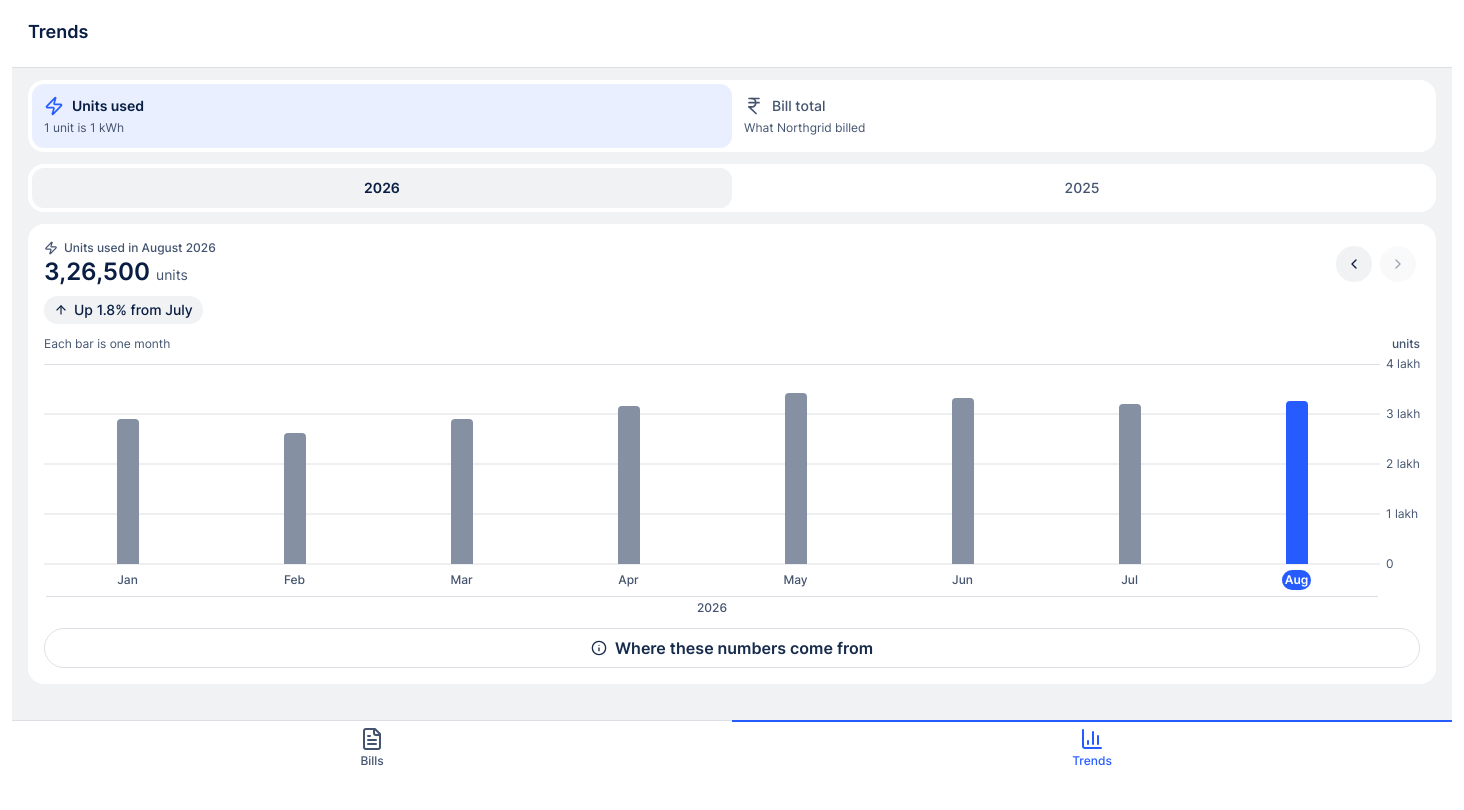
Scenario: Trends (S12 to S12.6) › switches to 2025 and back
This screenshot has width=1464, height=810.
Click the tab "2025".
click(1082, 188)  # box [732, 168, 1432, 208]
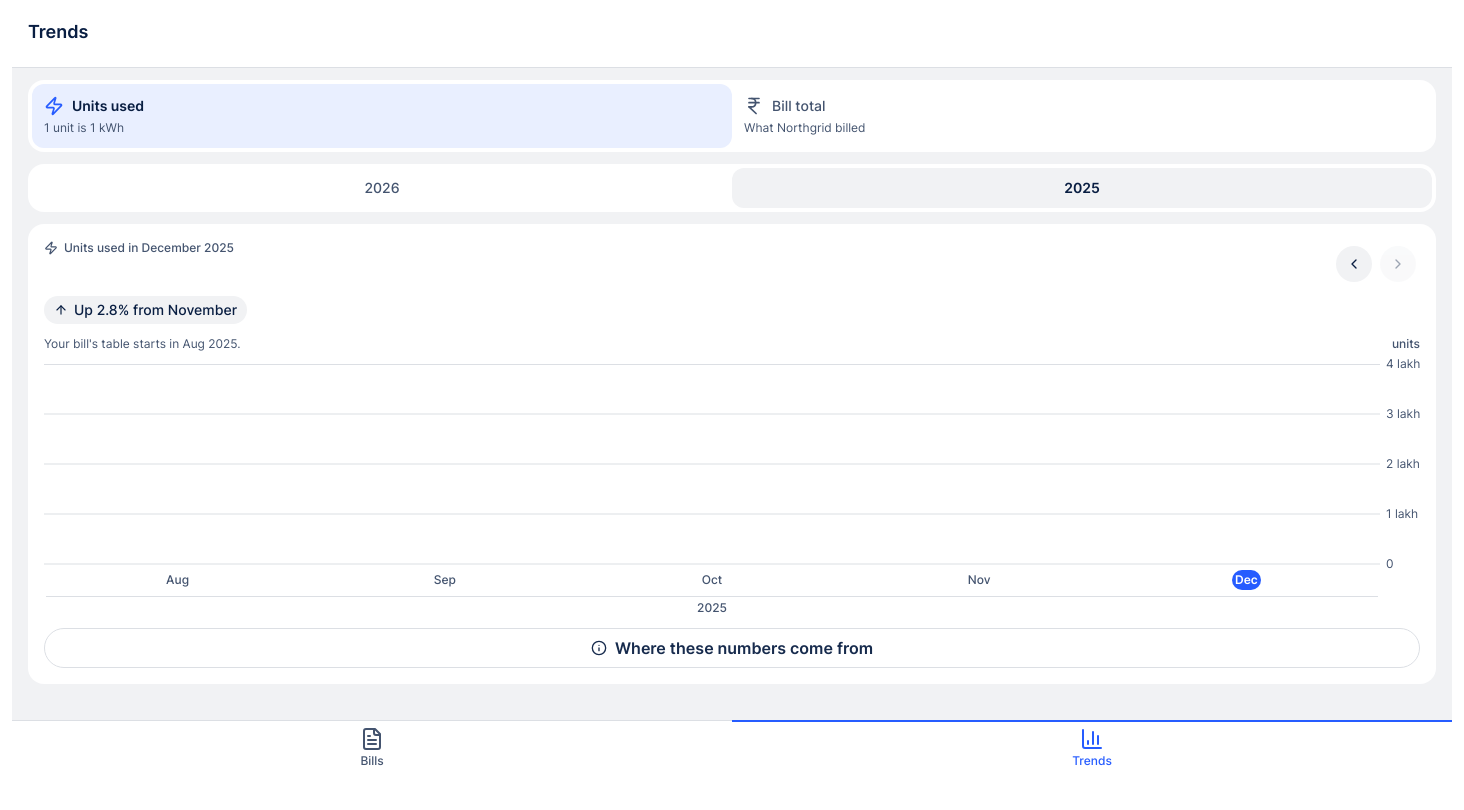
Expected: the text "Units used in December 2025" is shown, [64, 240, 234, 256]
Expected: the text "Up 2.8% from November" is shown, [44, 296, 247, 324]
Expected: the text "Your bill's table starts in Aug 2025." is shown, [44, 336, 241, 351]
Click the tab "2026".
click(382, 188)  # box [32, 168, 732, 208]
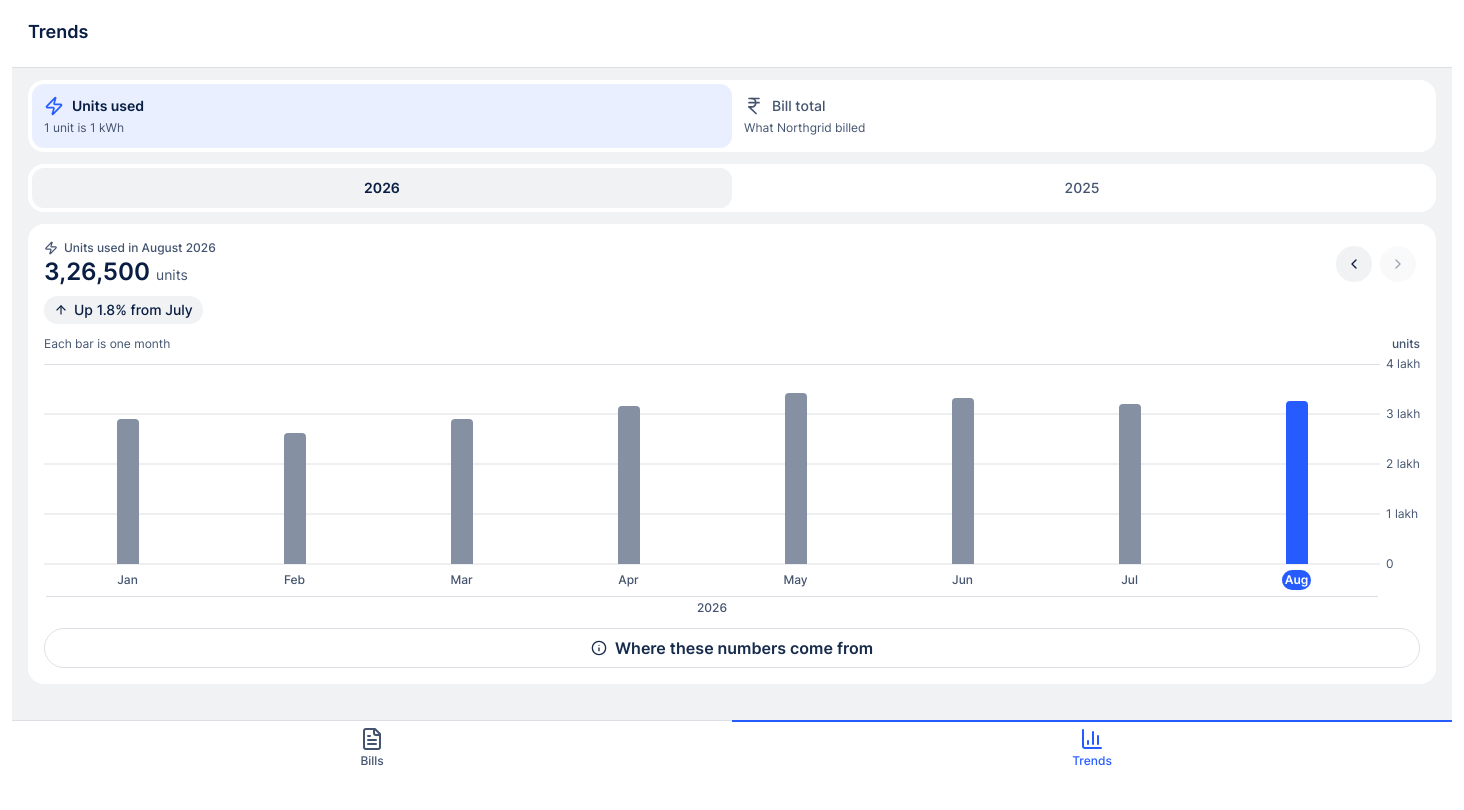
Expected: the text "Units used in August 2026" is shown, [64, 240, 216, 256]
